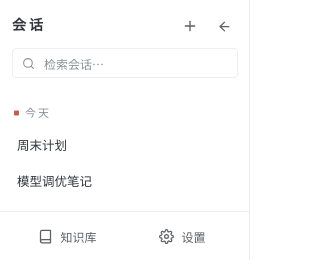
it: SessionSidebar 会话搜索 › 搜索结果过滤已删除会话：结果只保留仍存在的会话
Type "量子" into the field with class "search-input" at (135, 63), box [42,54,228,72]
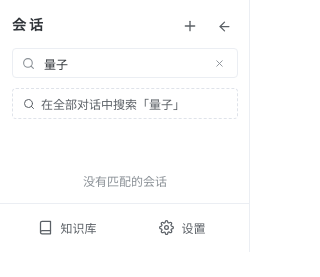
Click the button with class "fulltext-entry" at (125, 104), box [12,88,238,119]
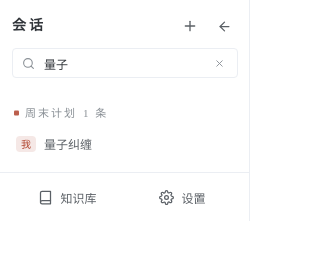
Check: the number of elements with class "search-group" is 1, box [16,107,108,152]
Check: the number of list items with class "search-hit" is 1, box [16,135,92,152]
